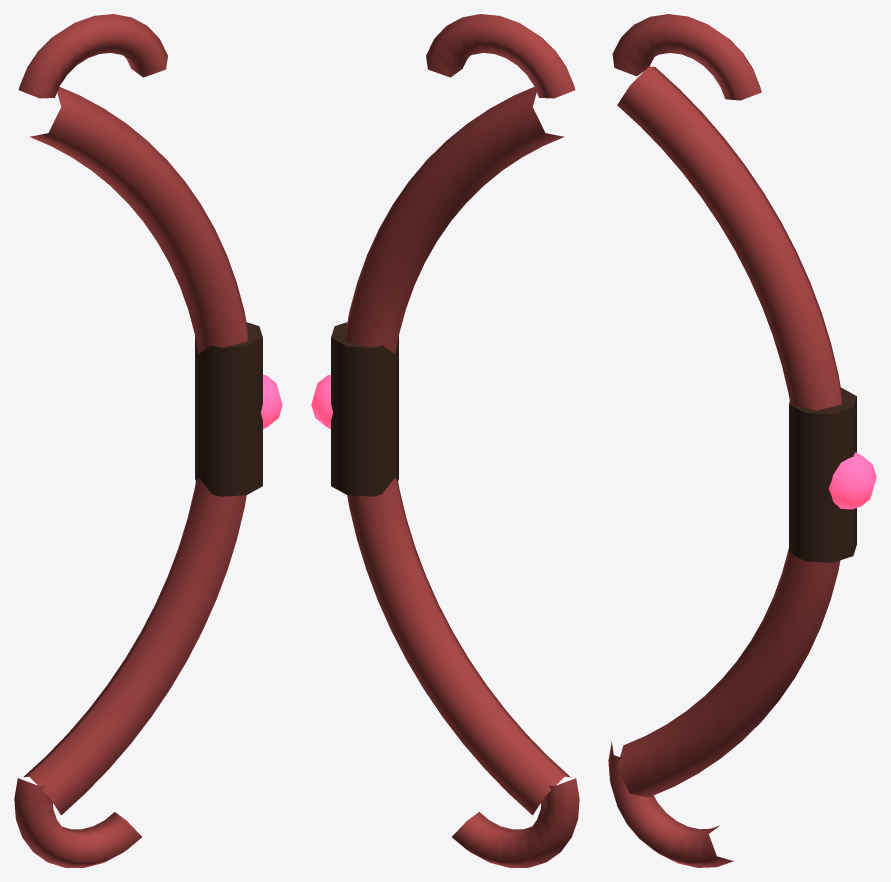
Rendered from bow_f1_f77aa900.glb.
3 views of the same model, side by side, from view 1: azimuth 30°, elevation 25°; view 2: azimuth 150°, elevation 25°; view 3: azimuth 330°, elevation 25° (orthographic).
Parts seen in each view (by area): view 1: m2_ow80_, m0_ow80_, m1_gm160_; view 2: m2_ow80_, m0_ow80_, m1_gm160_; view 3: m2_ow80_, m0_ow80_, m1_gm160_.
Part boxes in pixels (x1,y1,x2,y2): m2_ow80_: (14, 14, 247, 867); m0_ow80_: (195, 322, 262, 496); m1_gm160_: (261, 374, 282, 429); m2_ow80_: (346, 14, 579, 867); m0_ow80_: (331, 322, 398, 496); m1_gm160_: (311, 374, 332, 429); m2_ow80_: (608, 14, 841, 867); m0_ow80_: (789, 387, 856, 562); m1_gm160_: (828, 452, 876, 509).
Bounding box in the file's own units: 0.523 × 1.6 × 0.12.
